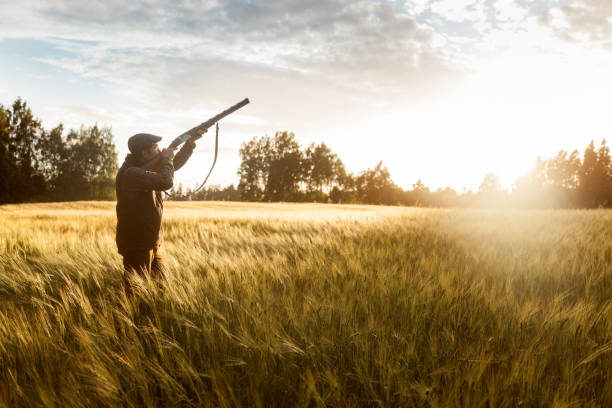gun: (140, 97, 250, 173)
